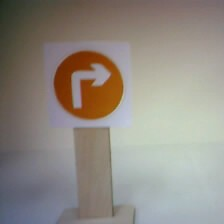right: (43, 41, 128, 125)
